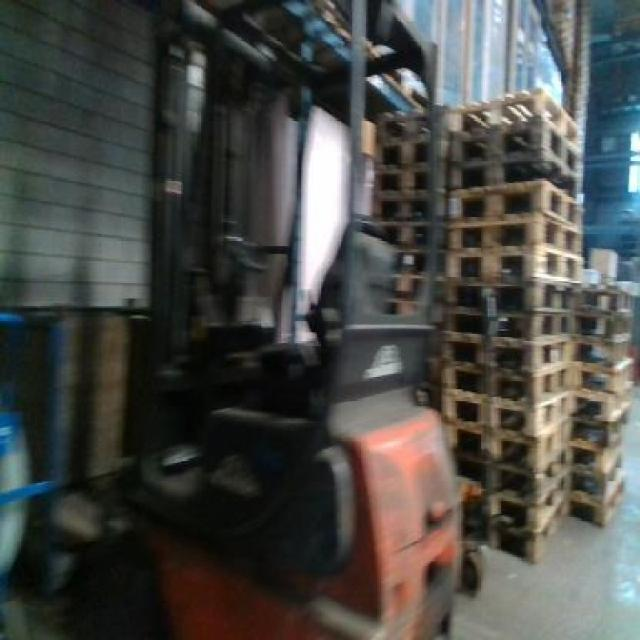ground: (457, 387, 638, 638)
pallet: (373, 84, 635, 568)
